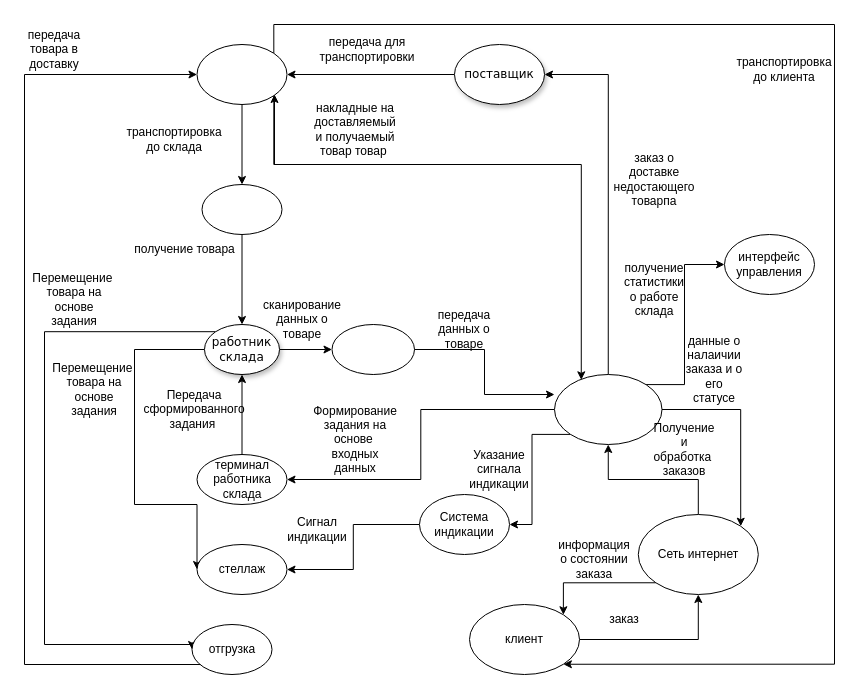
Image size: 860x693. Some labels were removed from this diagram. The shapes that lost their labels are listed below. From the top down, each one's centre as x and y in pixels, then its label:
the point at 241,74: транспортная коммпания
the point at 241,209: разгрузка
the point at 372,349: Сканер
the point at 608,409: Информационная система склада
